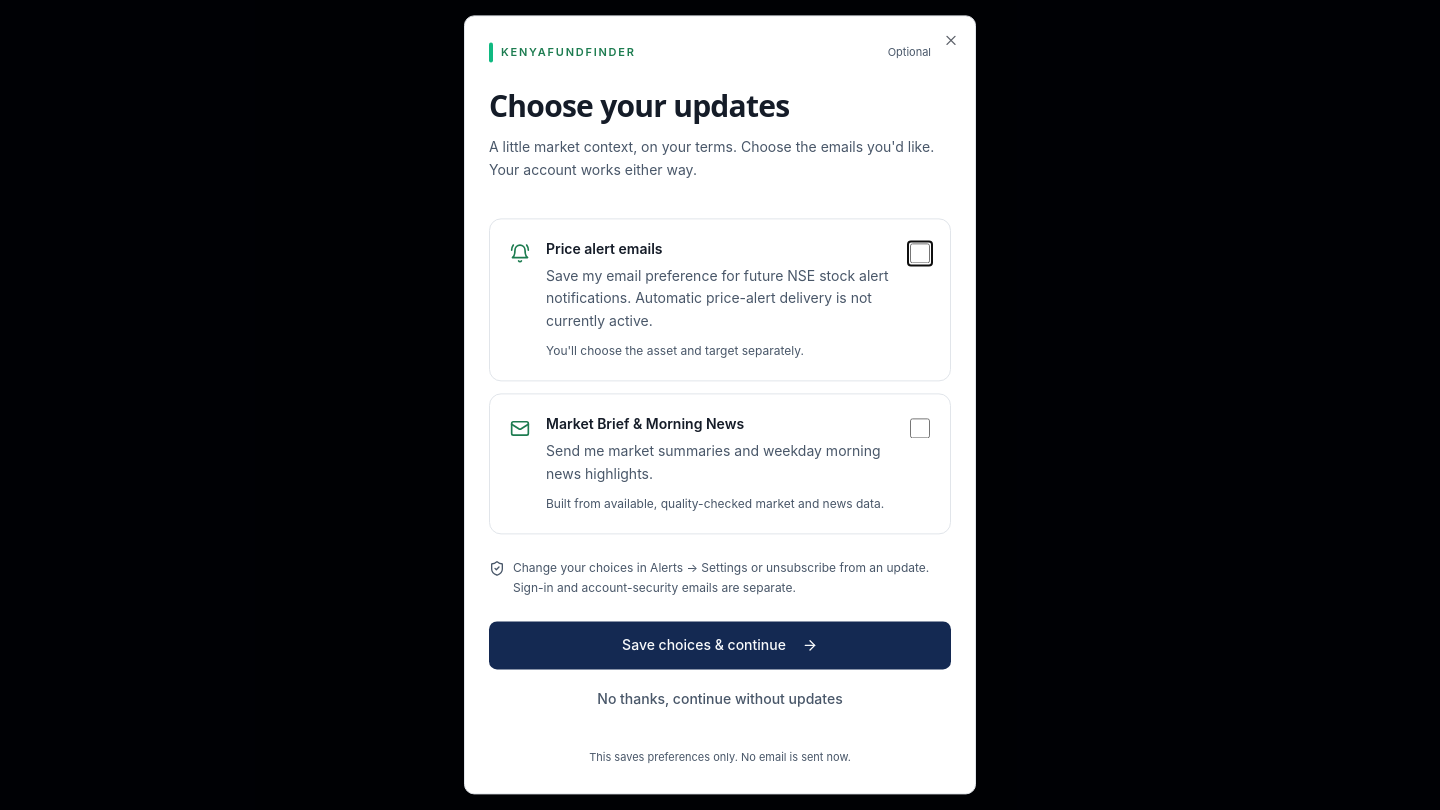
Test: Choose your updates › saves independently: price=true brief=false
The width and height of the screenshot is (1440, 810).
Later steps or results of the test are not shown.
Click the checkbox labelled "Price alert emails" at {"x": 920, "y": 253}, box [910, 243, 930, 263]
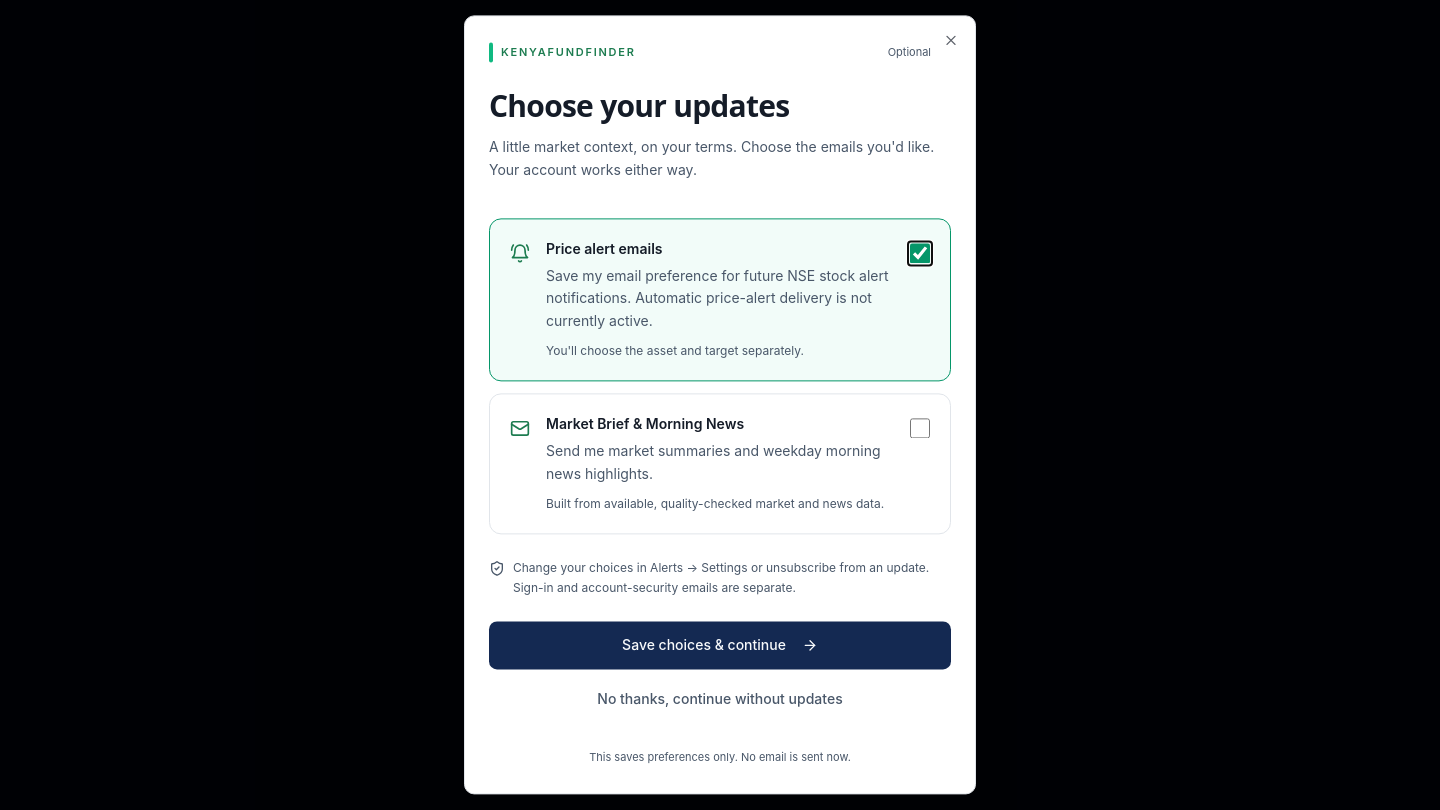
Click the button "Save choices & continue" at {"x": 720, "y": 646}, box [489, 622, 951, 670]
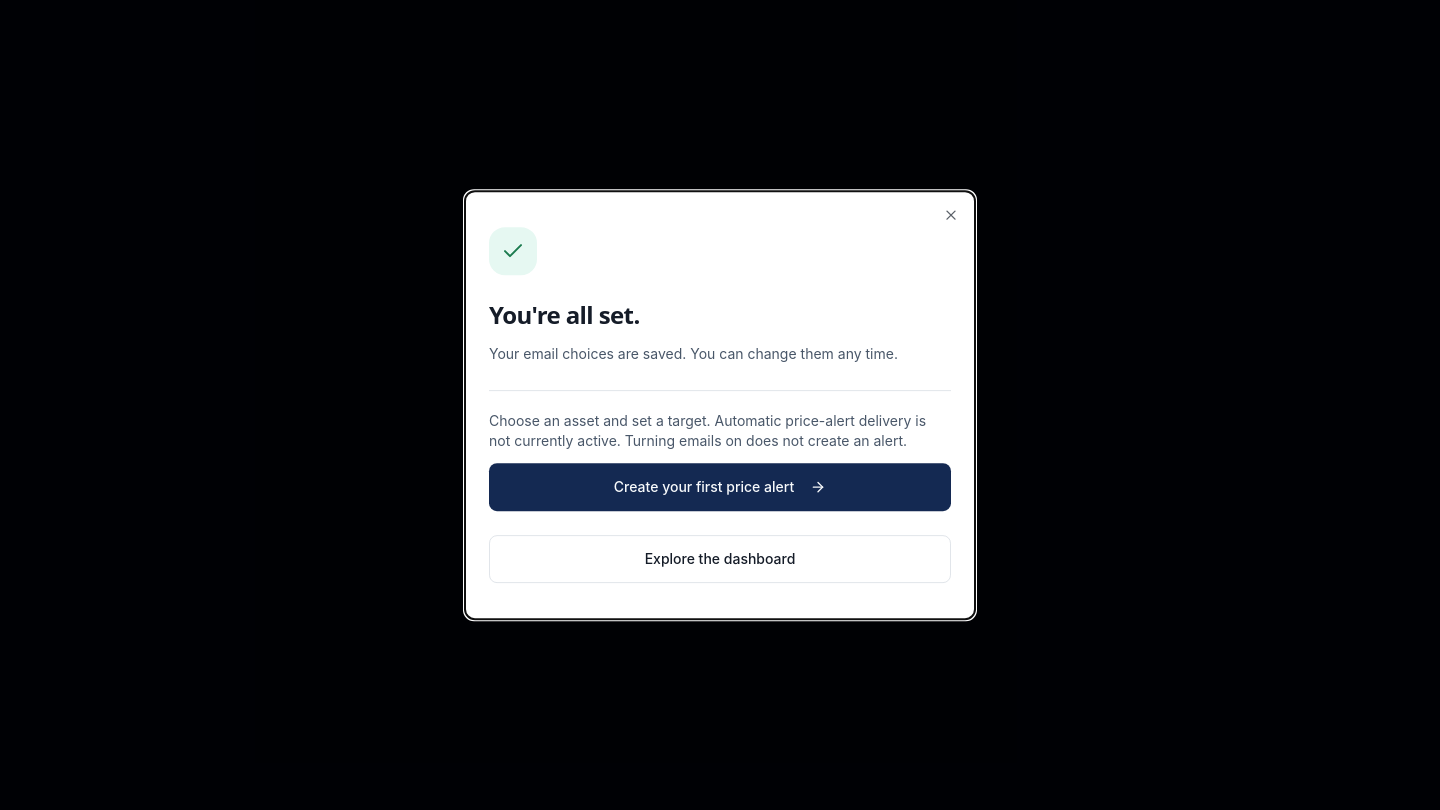
Result: the heading "You're all set." is shown at [489, 298, 640, 331]
